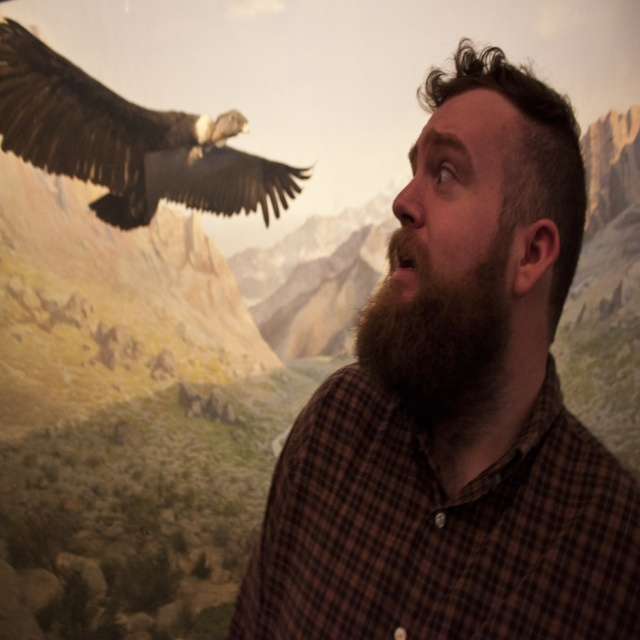Eagle: (0, 21, 320, 228)
